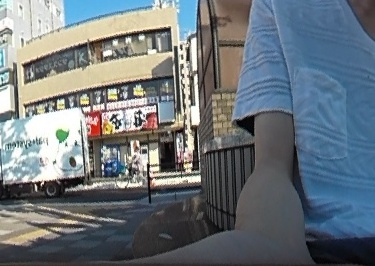person: (129, 147, 146, 174)
